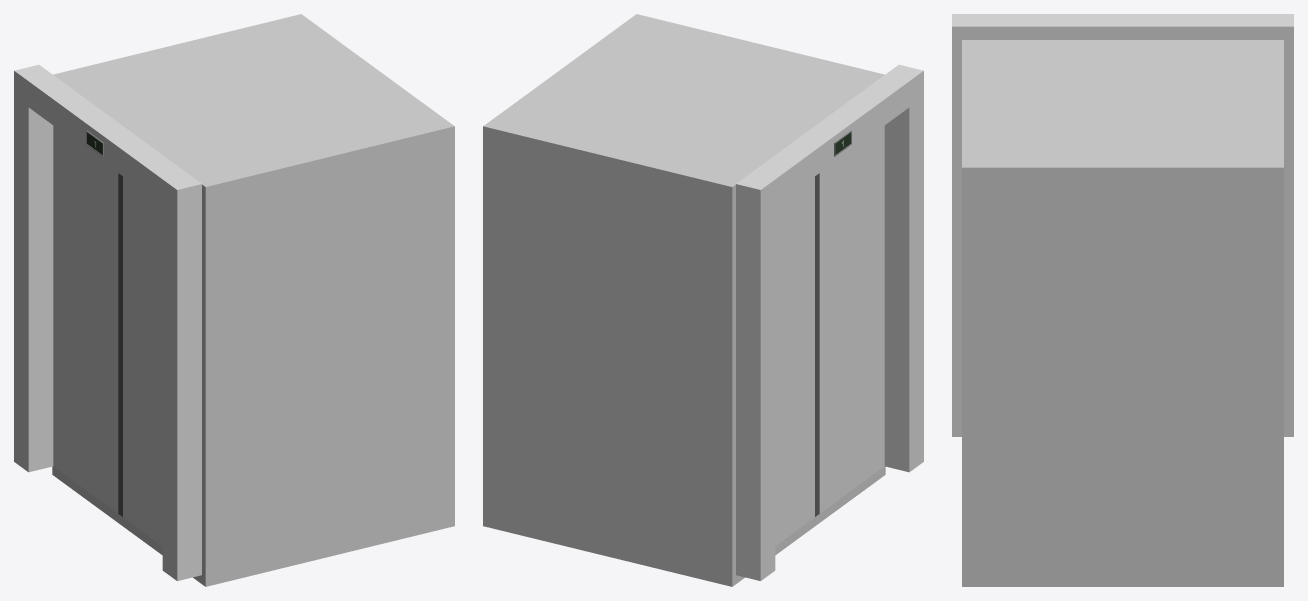
The model's file is Lift.fbx.
The picture shows the model from 3 angles, left to right: view 1: azimuth 30°, elevation 25°; view 2: azimuth 150°, elevation 25°; view 3: azimuth 270°, elevation 25°; orthographic projection. The views are drawn at different scales.
Parts seen in each view (by area): view 1: Cube.004, Cube, Cube.006, Cube.007; view 2: Cube.004, Cube, Cube.007, Cube.006; view 3: Cube.004, Cube.
Part boxes in pixels (bbox=[...]): Cube.004: bbox=[52, 14, 454, 586]; Cube: bbox=[14, 64, 201, 580]; Cube.006: bbox=[53, 125, 120, 514]; Cube.007: bbox=[120, 175, 162, 545]; Cube.004: bbox=[483, 14, 885, 586]; Cube: bbox=[736, 64, 923, 580]; Cube.007: bbox=[817, 125, 884, 514]; Cube.006: bbox=[775, 175, 817, 545]; Cube.004: bbox=[962, 40, 1283, 586]; Cube: bbox=[952, 14, 1293, 436].
Bounding box in the file's own units: 17.07 × 23.5 × 17.
